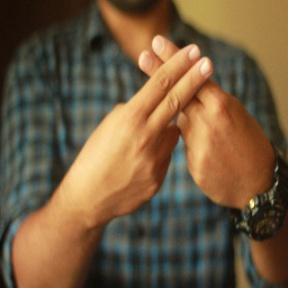F: (114, 26, 243, 161)
